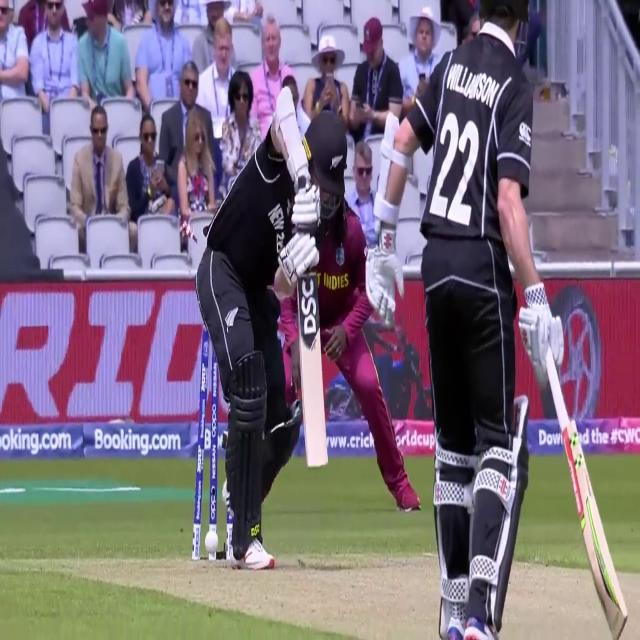ball: (205, 523, 223, 559)
